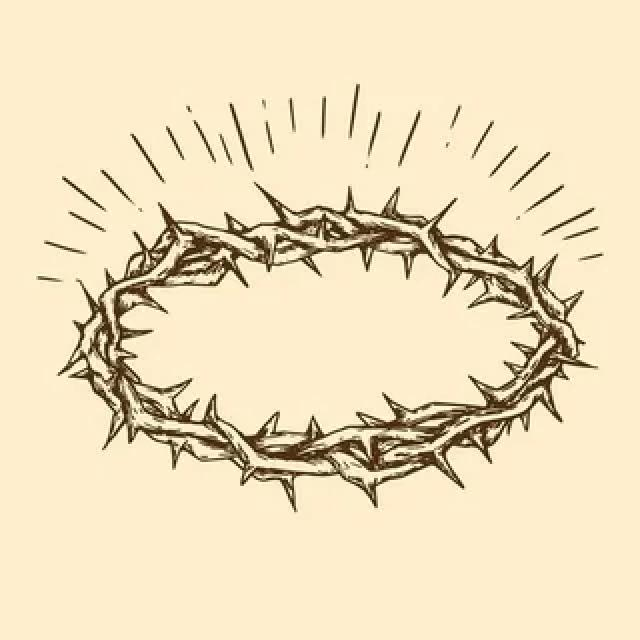crown: (60, 200, 588, 505)
